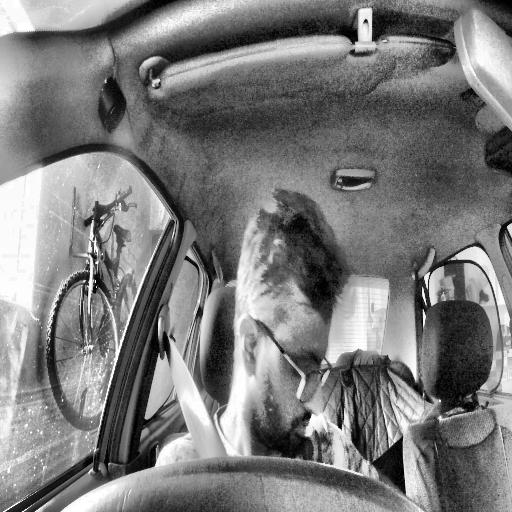drowsy: (230, 185, 352, 465)
